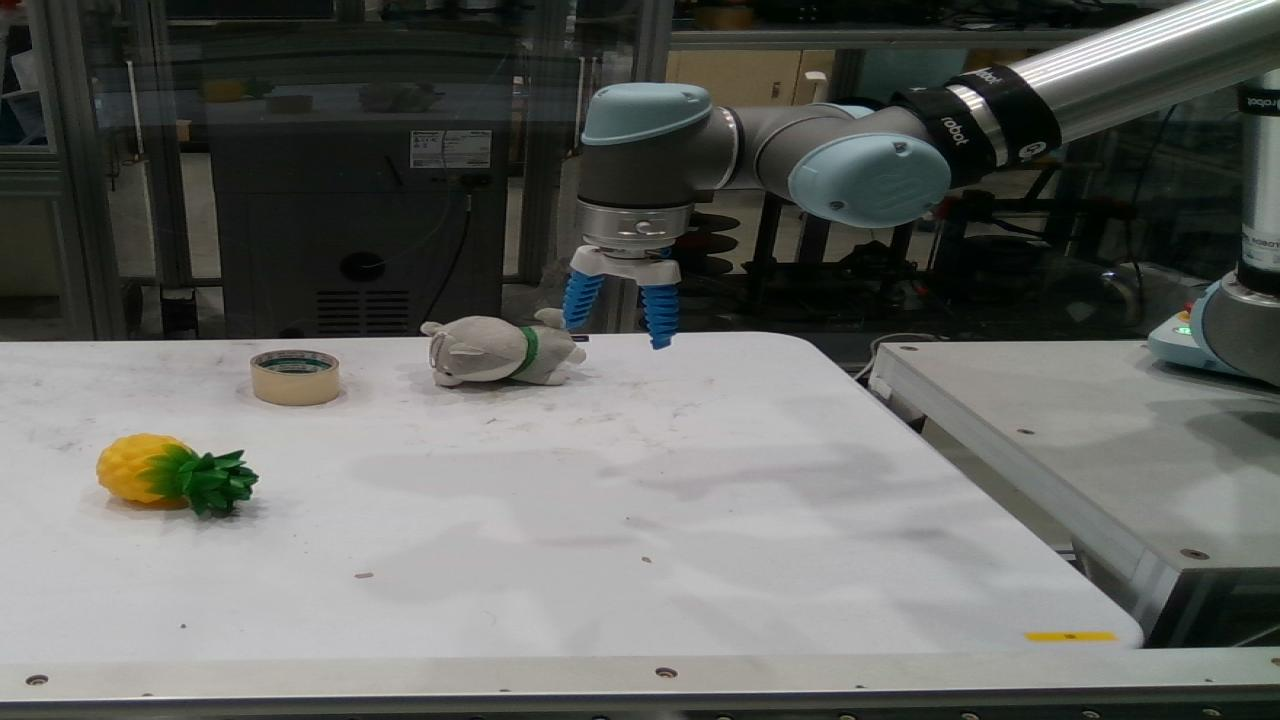UR5: (576, 0, 1276, 381)
gripper_left: (564, 271, 598, 325)
gripper_right: (644, 286, 676, 349)
target: (98, 434, 254, 514), (424, 309, 582, 386), (252, 351, 336, 404)
